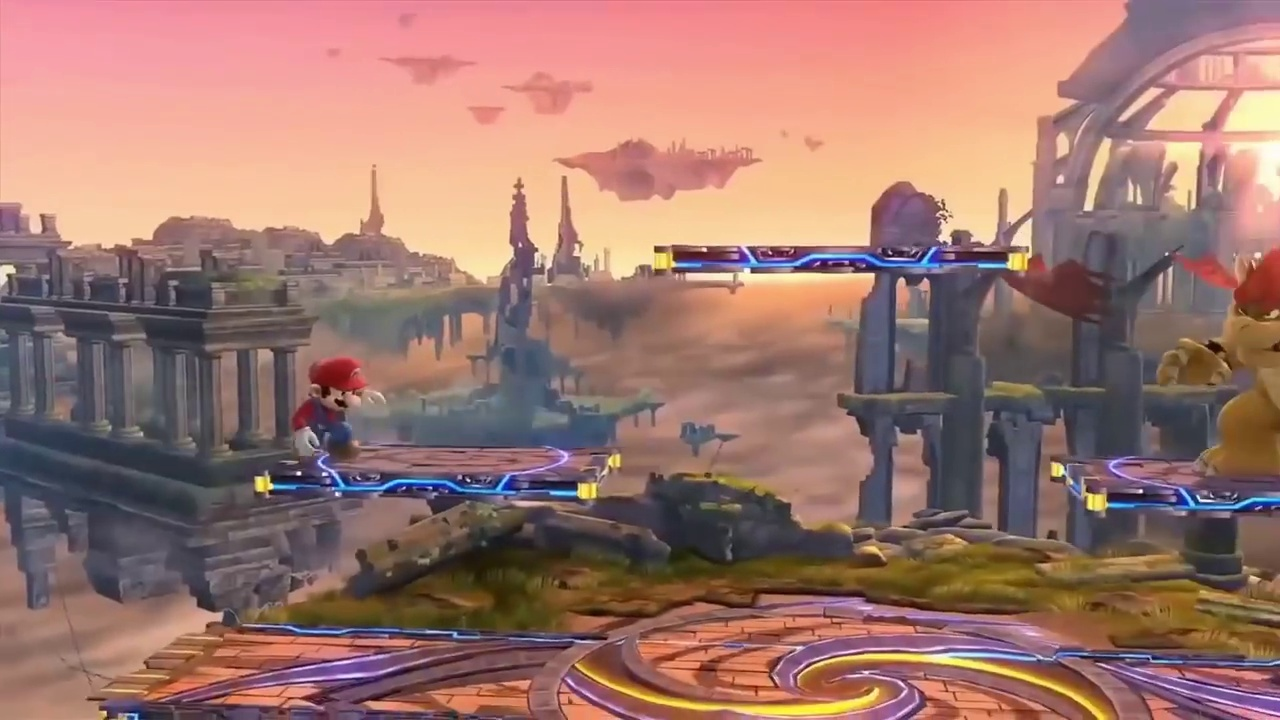Mario: (293, 360, 387, 459)
